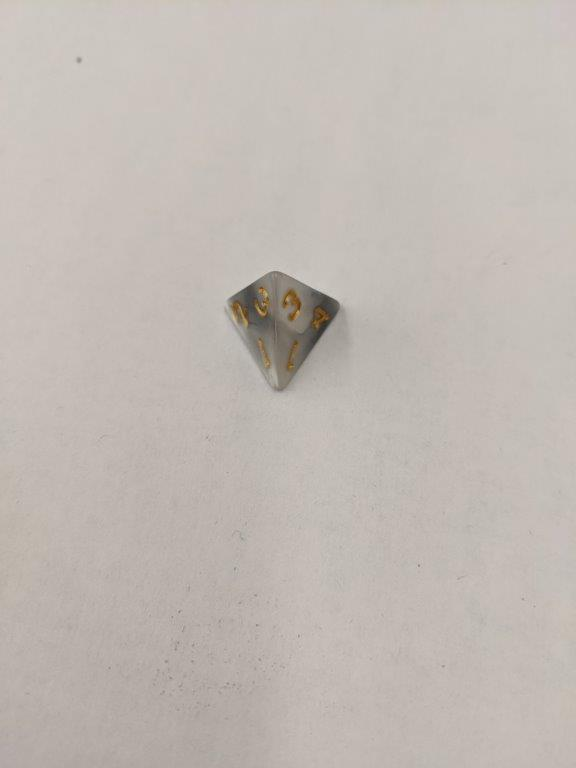d4-3: (221, 270, 342, 396)
